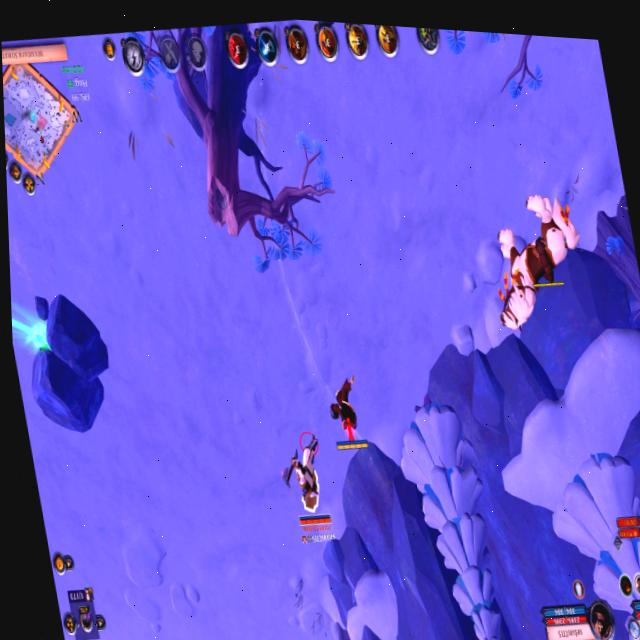red: (271, 419, 343, 555), (318, 363, 378, 463)
